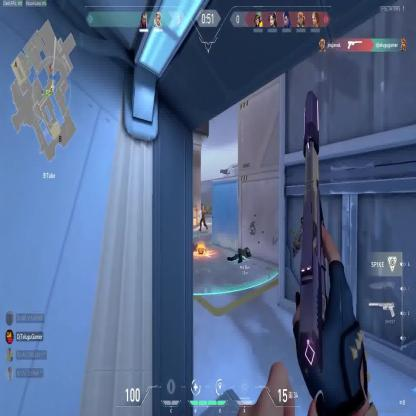enemy: (199, 205, 208, 232)
enemy_head: (202, 205, 205, 211)
